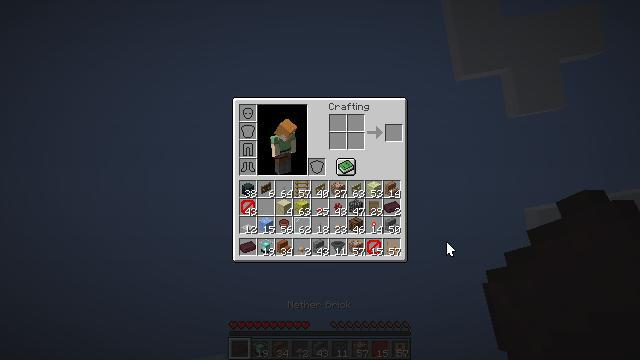cursor: (446, 241, 456, 257)
